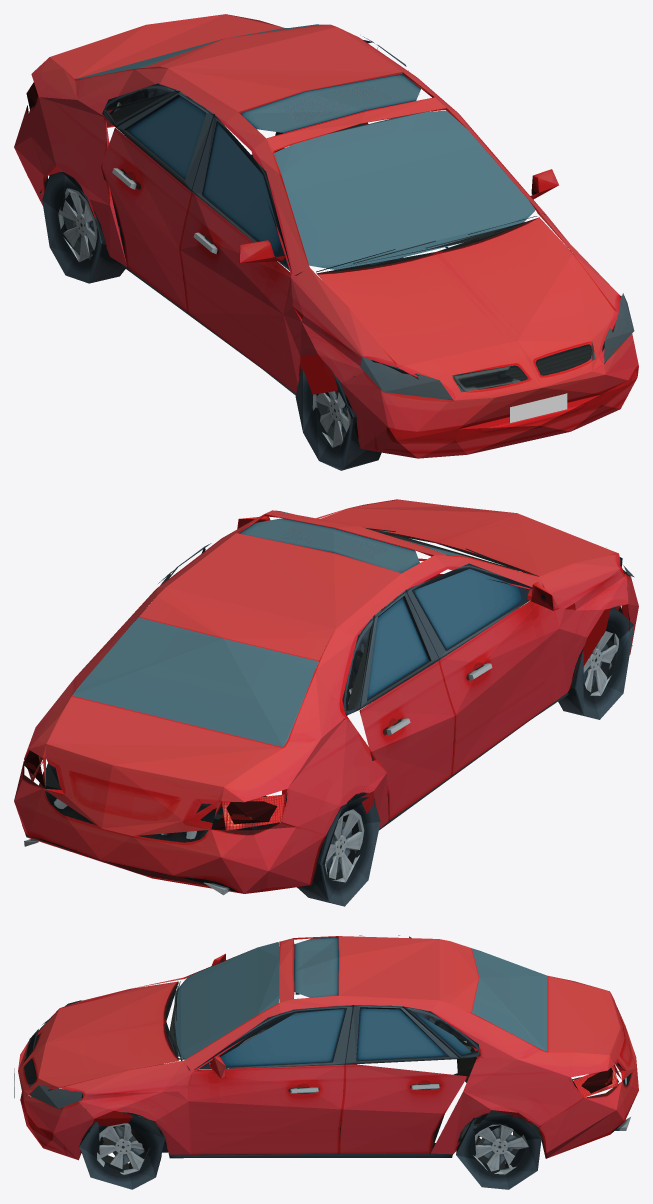
The model's file is sedan_lo.glb.
3 renders of one model, top to bottom at view 1: azimuth 30°, elevation 25°; view 2: azimuth 150°, elevation 25°; view 3: azimuth 270°, elevation 25°, orthographic. The views are drawn at different scales.
Size of the model in its own units: 0.4371 by 0.3142 by 0.9971.
Materials: 2 (2 with a texture image).
